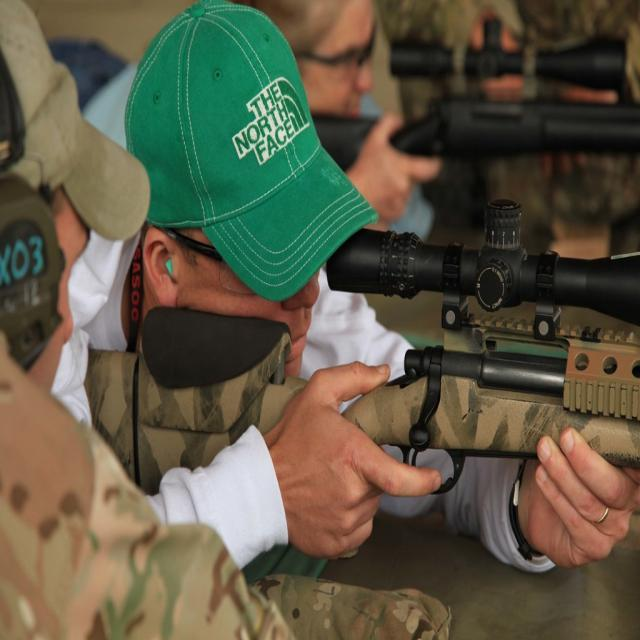weapon: (322, 195, 640, 500), (307, 13, 633, 179)
